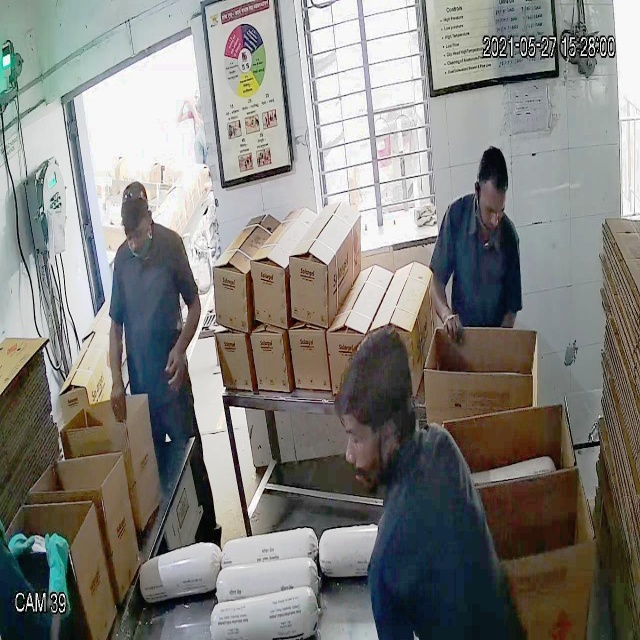Sin_gafas: (341, 422, 392, 460), (475, 196, 507, 222), (119, 220, 152, 244)
